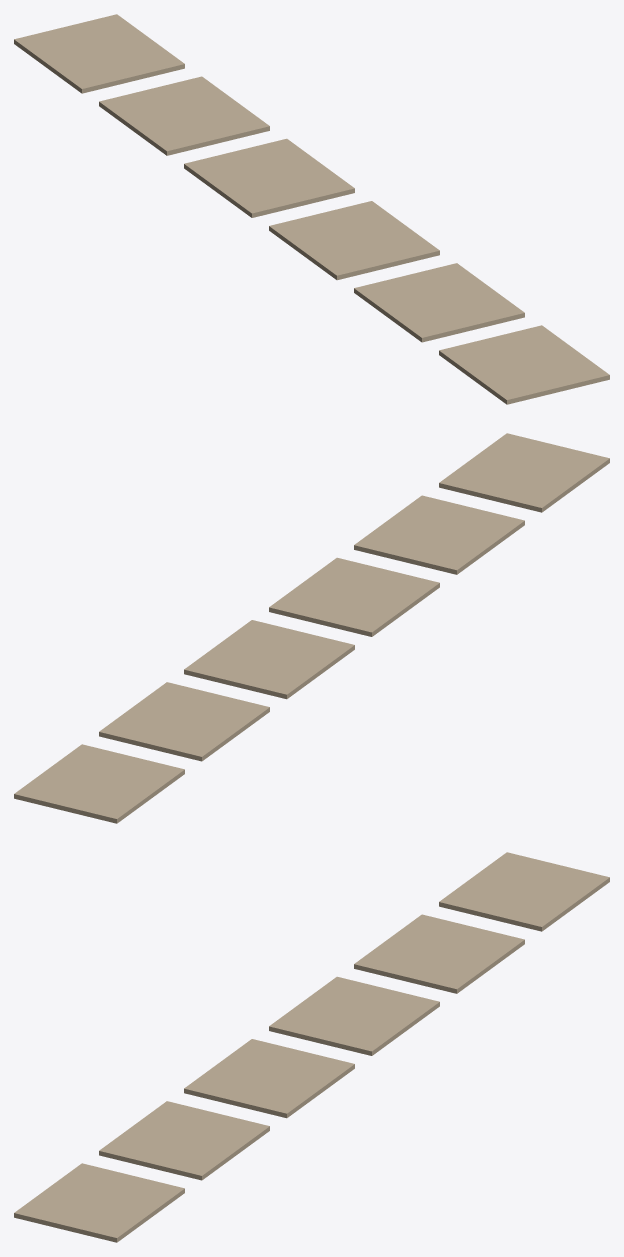
File: terrain_path.fbx
3 views of the same model, one above another, from view 1: azimuth 30°, elevation 25°; view 2: azimuth 150°, elevation 25°; view 3: azimuth 330°, elevation 25° (orthographic).
Parts seen in each view (by area): view 1: terrain_path; view 2: terrain_path; view 3: terrain_path.
Part boxes in pixels (<box>): terrain_path: <box>14,14,609,404</box>; terrain_path: <box>14,433,609,823</box>; terrain_path: <box>14,852,609,1242</box>.
Bounding box in the file's own units: 1.4 × 0.06 × 11.6.
